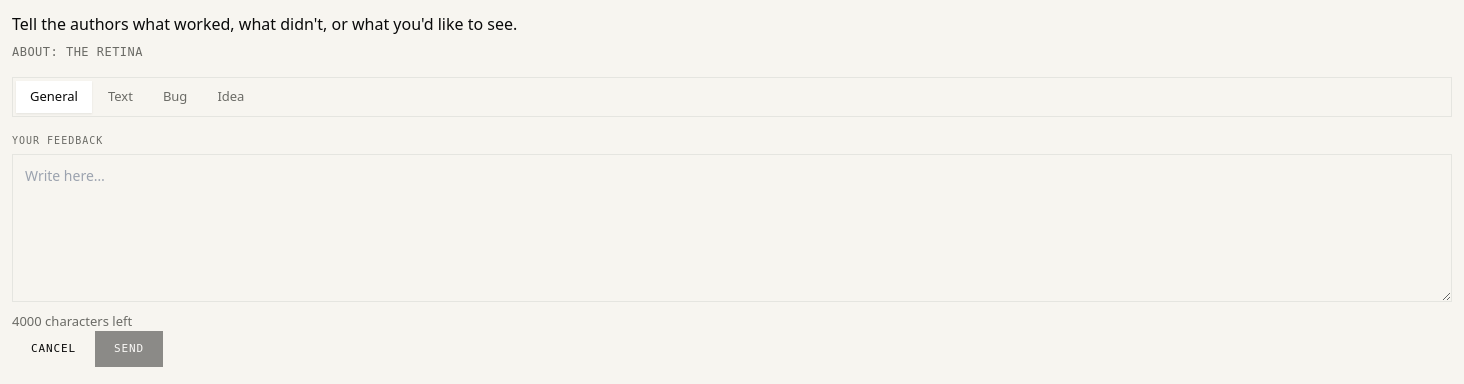
Test: Reader feedback dialog (SEP24-31) › preserves a failed message for retry and does not report success
The width and height of the screenshot is (1464, 384).
Type "Please clarify this figure" into the text box labelled "Your feedback 4000 characters left" at (732, 228), box [12,154,1452,302]
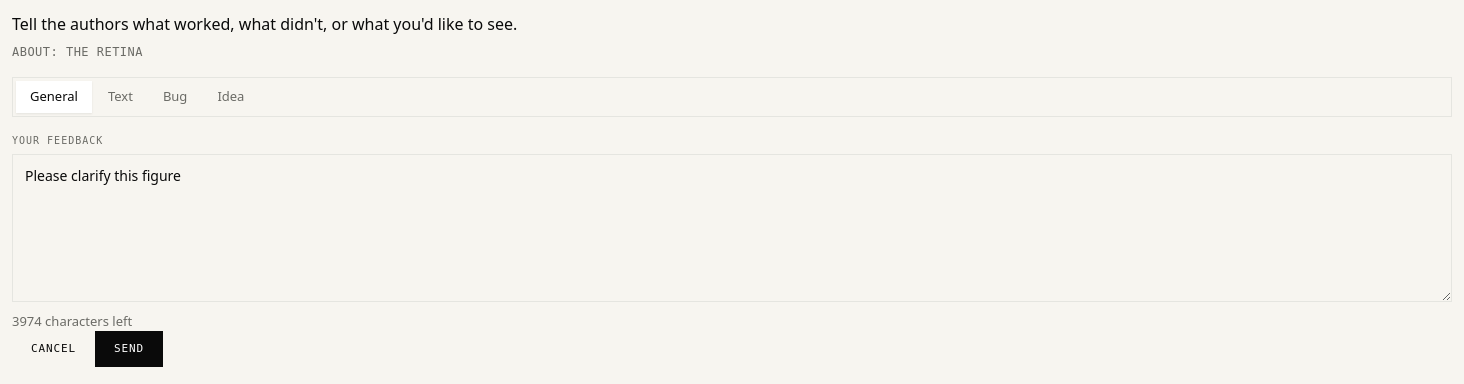
Click the button "Send" at (129, 349), box [95,331,163,367]
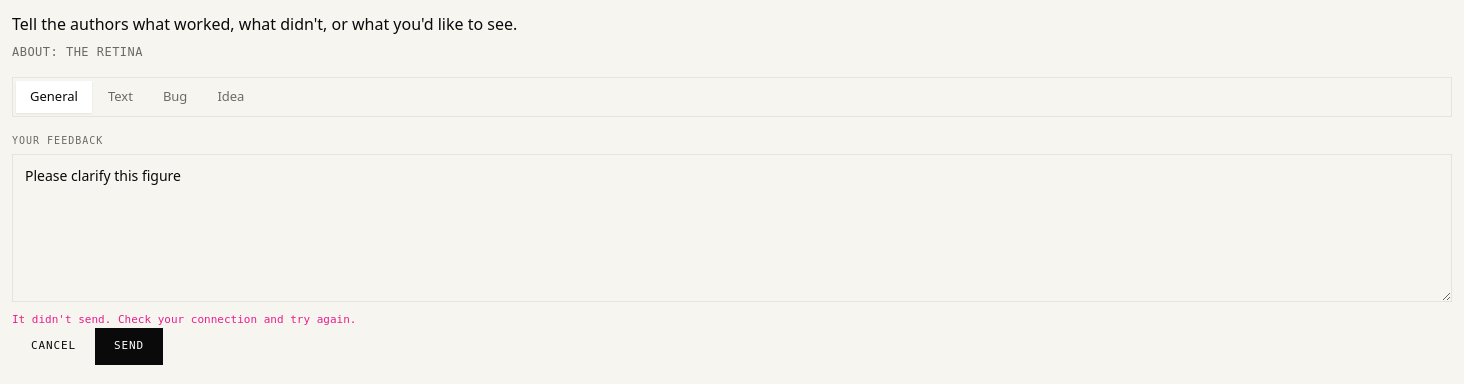
Expected: the text "Check your connection and try again" is shown, [12,313,356,326]
